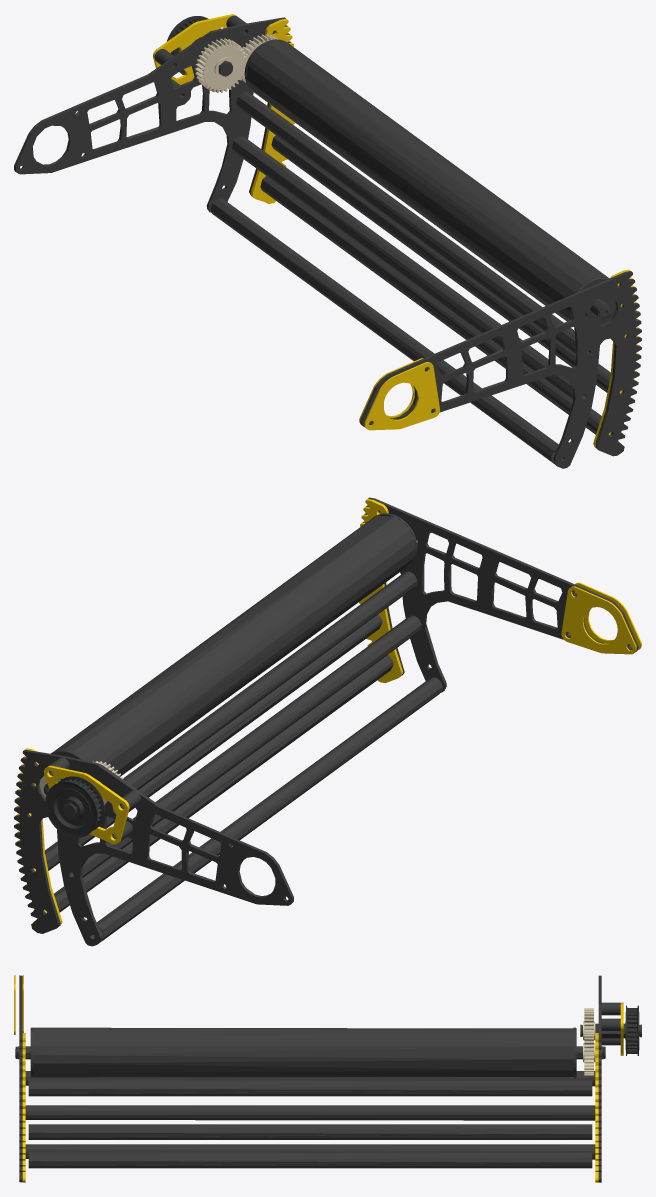
The model's file is 6328-hood.glb.
The picture shows the model from 3 angles, top to bottom: view 1: azimuth 30°, elevation 25°; view 2: azimuth 150°, elevation 25°; view 3: azimuth 270°, elevation 25°; orthographic projection. The views are drawn at different scales.
Parts seen in each view (by area): view 1: 6328-26C-3118 Outer Hood CF Tube, 6328-26C-3116 Hood-Drum Outer Thickener Plate, 34t Aluminum Spur Gear (20 DP, 1/2" Hex Bore); view 2: 6328-26C-3118 Outer Hood CF Tube, 6328-26C-3116 Hood-Drum Outer Thickener Plate, 30t Aluminum Pulley (HTD 5mm, 9mm Wide, 1/2" Hex Bore); view 3: 6328-26C-3118 Outer Hood CF Tube, 6328-26C-3116 Hood-Drum Outer Thickener Plate, 34t Aluminum Spur Gear (20 DP, 1/2" Hex Bore), 30t Aluminum Pulley (HTD 5mm, 9mm Wide, 1/2" Hex Bore).
Boxes of the visible parts, x1,y1,x2,y2 form: 6328-26C-3118 Outer Hood CF Tube: (14,15,641,468); 6328-26C-3116 Hood-Drum Outer Thickener Plate: (153,14,639,449); 34t Aluminum Spur Gear (20 DP, 1/2" Hex Bore): (195,34,277,92); 6328-26C-3118 Outer Hood CF Tube: (14,497,638,946); 6328-26C-3116 Hood-Drum Outer Thickener Plate: (16,499,641,926); 30t Aluminum Pulley (HTD 5mm, 9mm Wide, 1/2" Hex Bore): (45,776,104,837); 6328-26C-3118 Outer Hood CF Tube: (15,975,641,1182); 6328-26C-3116 Hood-Drum Outer Thickener Plate: (14,975,623,1182); 34t Aluminum Spur Gear (20 DP, 1/2" Hex Bore): (583,1008,595,1075); 30t Aluminum Pulley (HTD 5mm, 9mm Wide, 1/2" Hex Bore): (625,1005,639,1055).
Bounding box in the file's own units: 0.2725 × 0.1713 × 0.6331.
